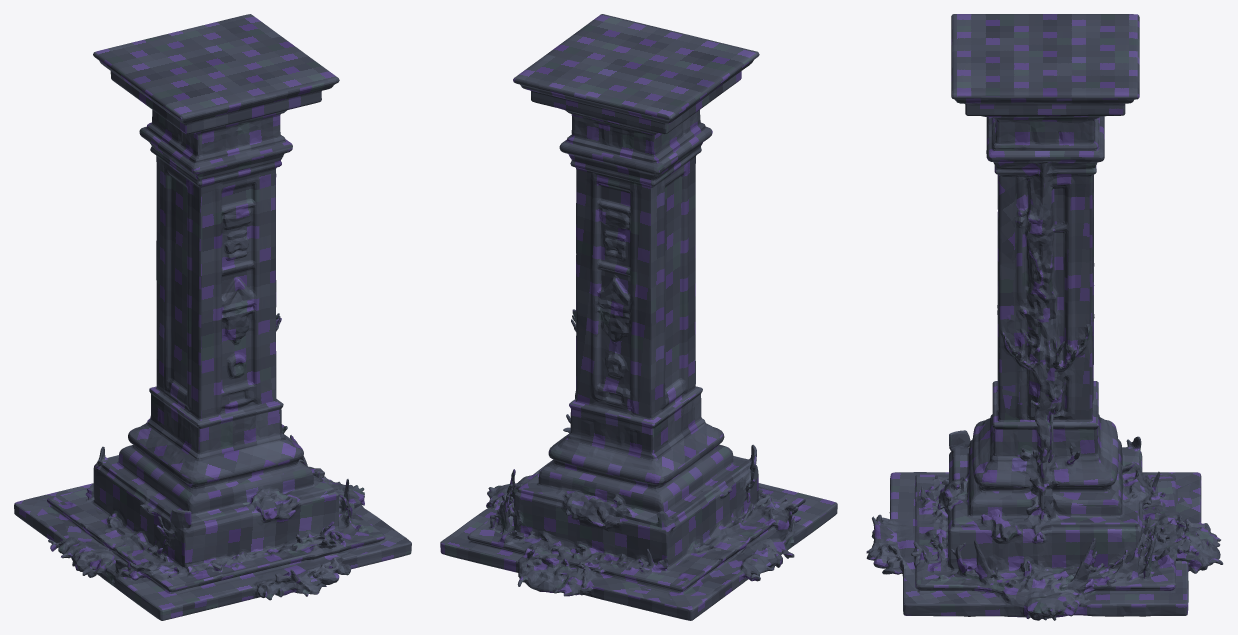
The model's file is weathered-monolith-pillar-generated-2026-04-19T23-42-40-008Z.glb.
3 views of the same model, side by side, from view 1: azimuth 30°, elevation 25°; view 2: azimuth 150°, elevation 25°; view 3: azimuth 270°, elevation 25° (orthographic). The views are drawn at different scales.
Parts seen in each view (by area): view 1: temp_mesh.ply; view 2: temp_mesh.ply; view 3: temp_mesh.ply.
Part boxes in pixels (left/top/right/bottom): temp_mesh.ply: left=14, top=14, right=411, bottom=620; temp_mesh.ply: left=440, top=14, right=837, bottom=620; temp_mesh.ply: left=866, top=14, right=1223, bottom=620.
Size of the model in its own units: 1.28 by 1.97 by 1.28.
1 material, 1 textured.
